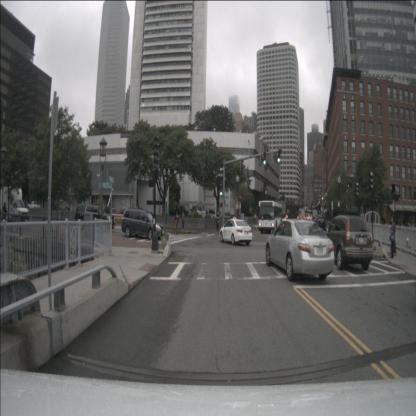human-pedestrian-adult: (389, 216, 396, 258), (10, 200, 16, 231), (2, 201, 8, 231), (173, 212, 179, 236), (215, 210, 219, 232), (181, 212, 185, 232), (253, 213, 256, 224)
vehicle-bus-rigid: (258, 200, 286, 236)
vehicle-car: (266, 219, 335, 280), (323, 214, 374, 270), (122, 209, 164, 241), (74, 206, 116, 231), (219, 217, 253, 245), (27, 201, 41, 210), (317, 216, 325, 229)
vehicle-truck: (0, 185, 29, 223)
